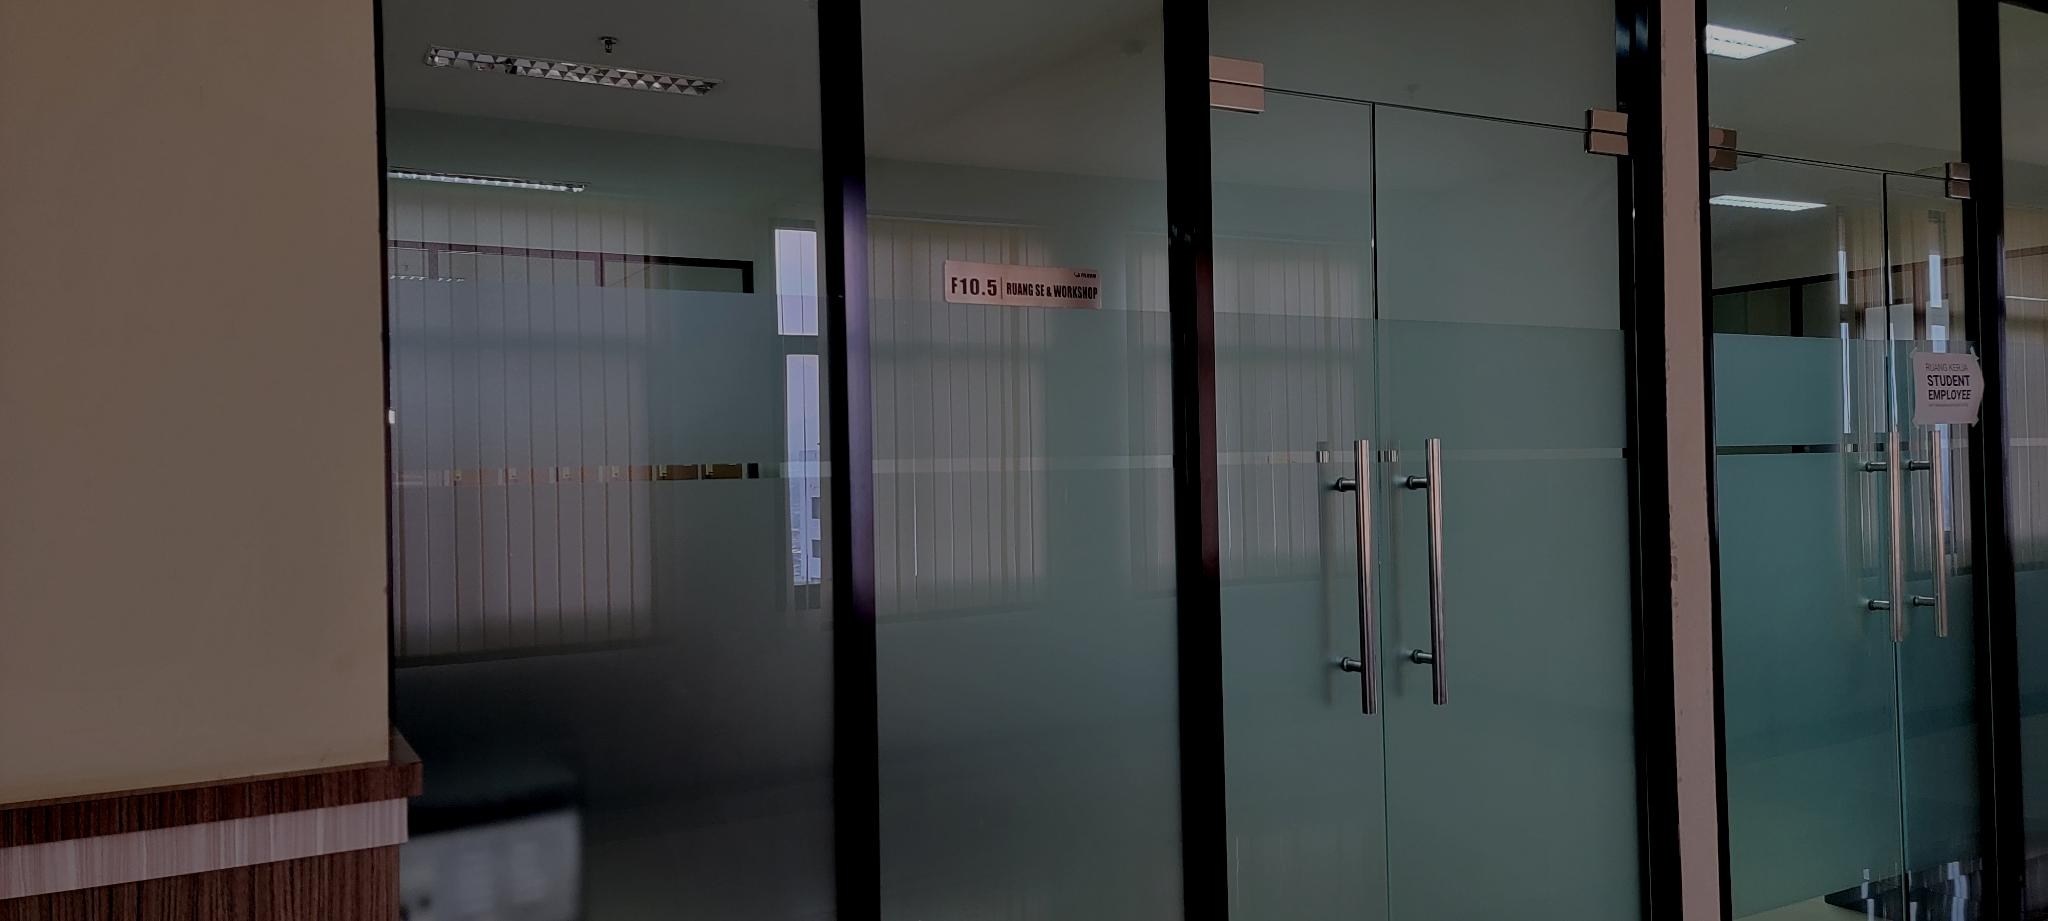plate: (943, 256, 1100, 312)
